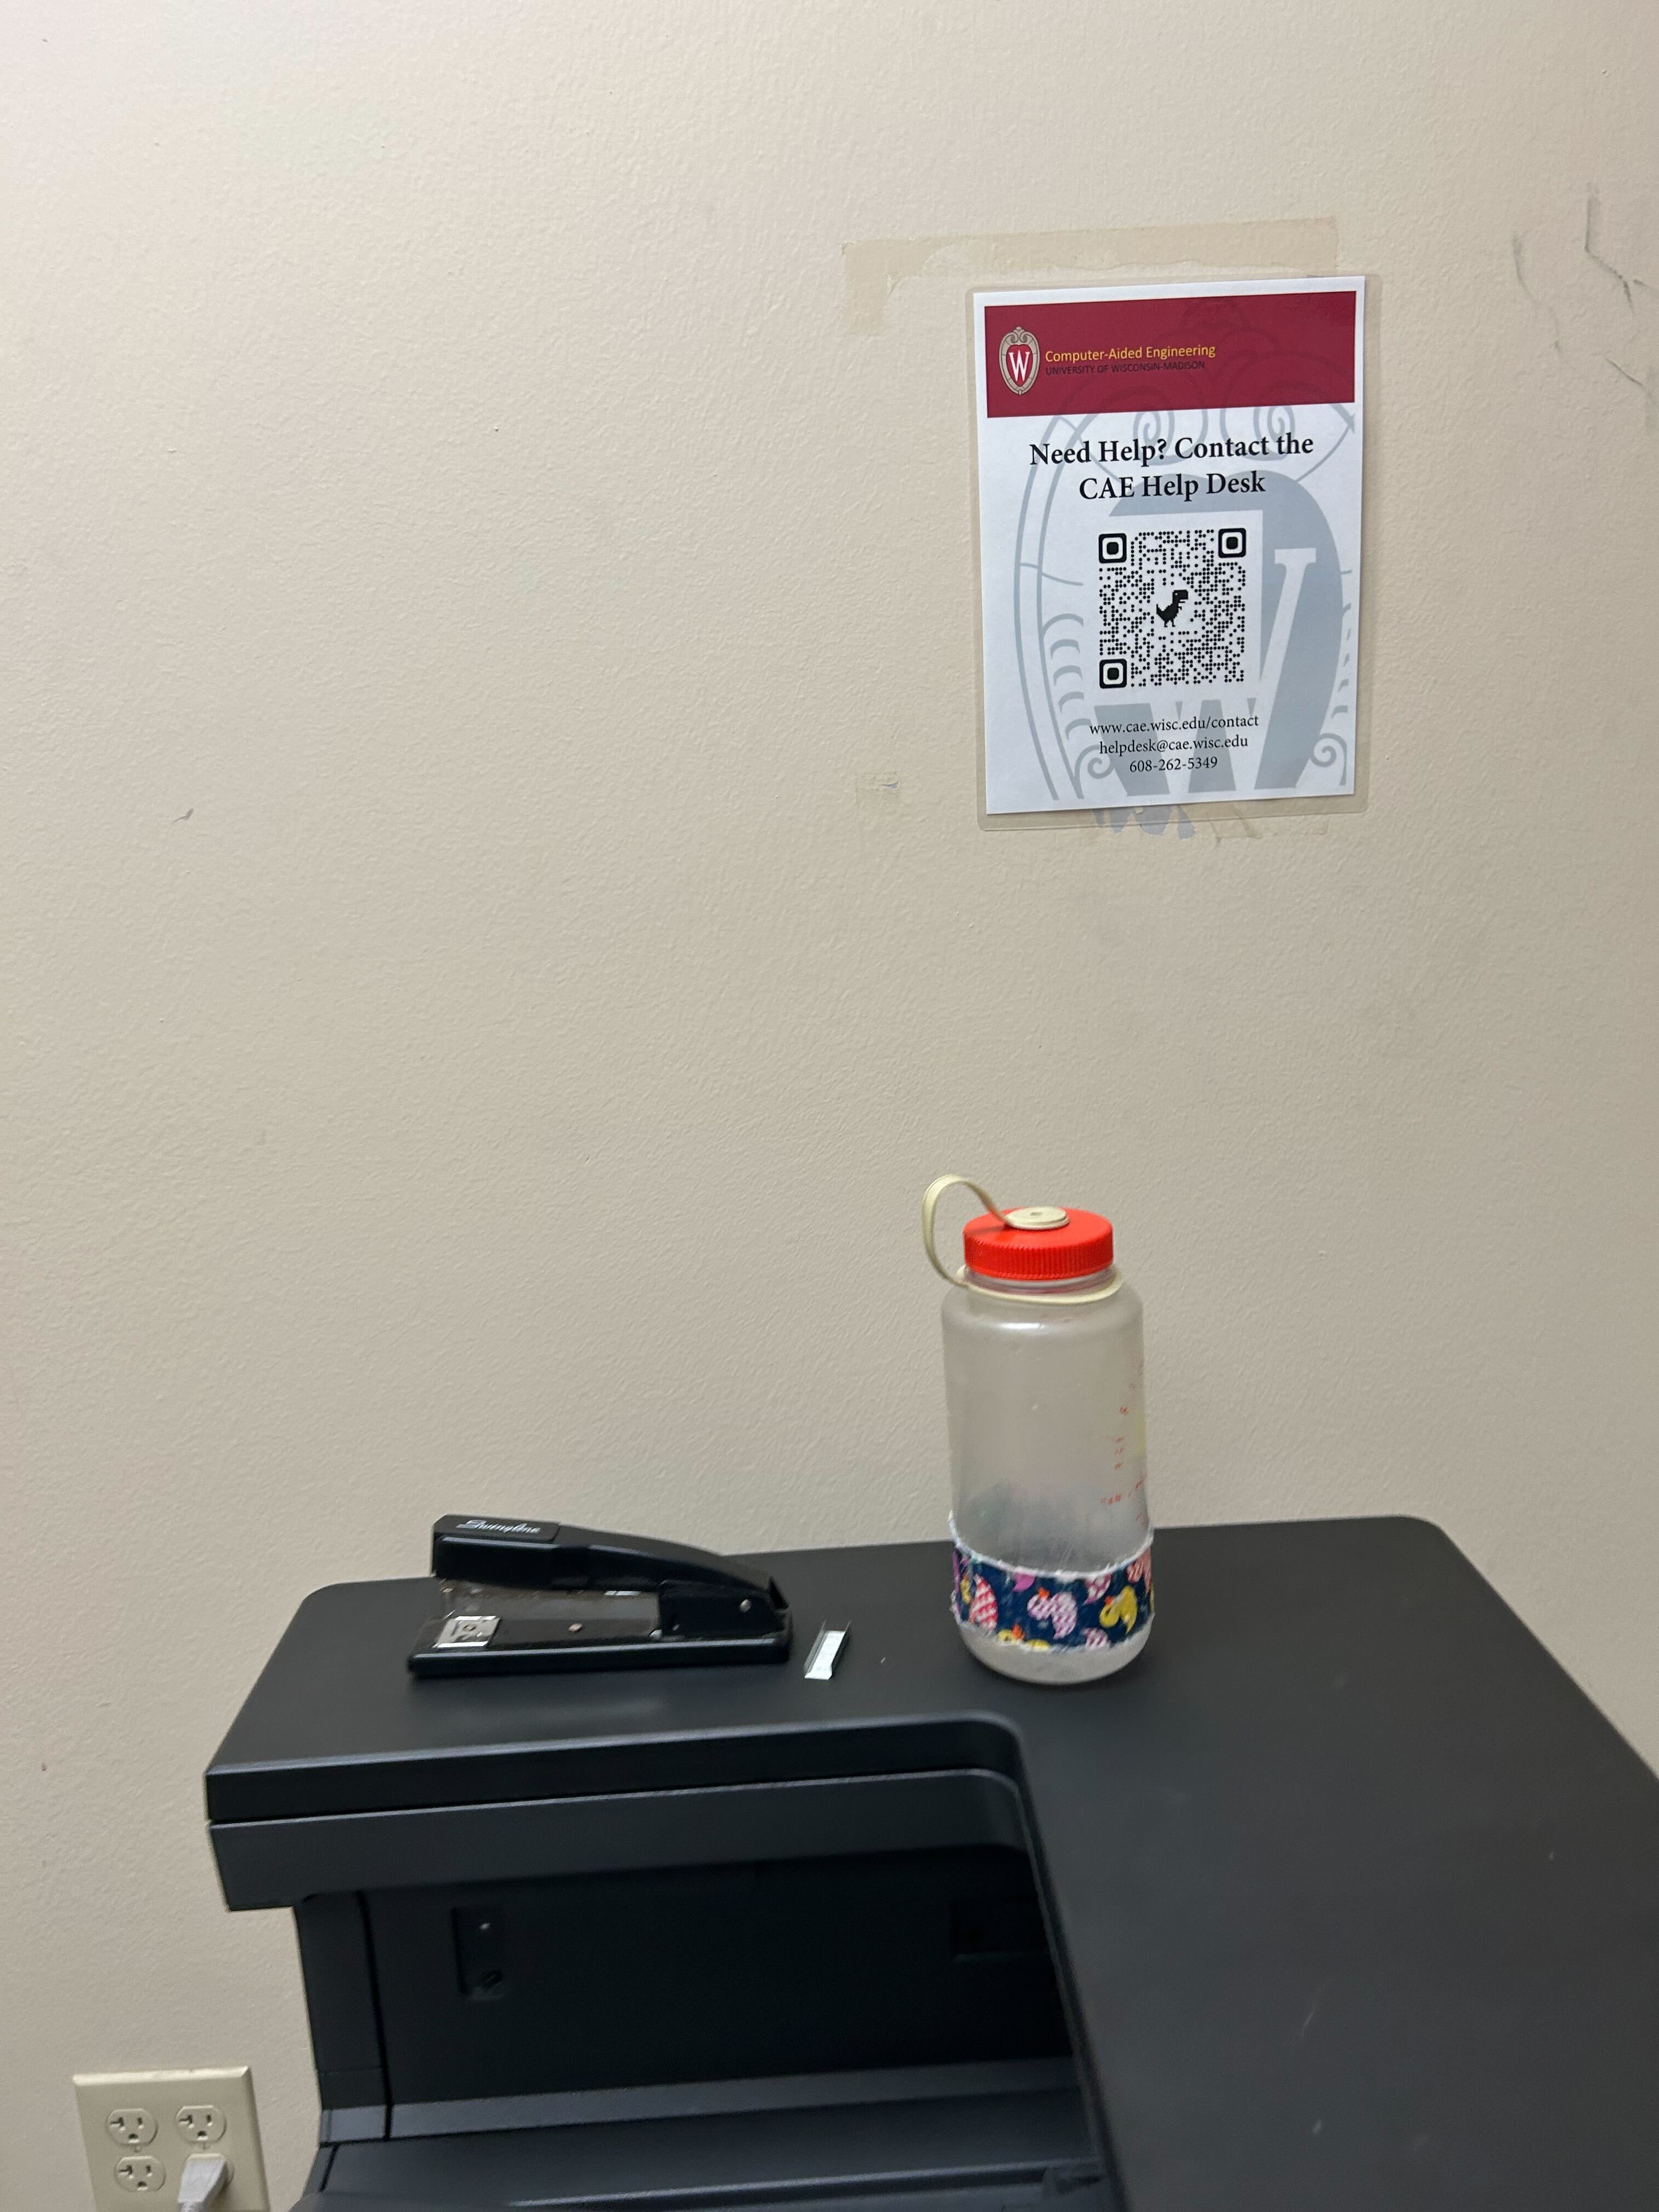bottle: (917, 1163, 1157, 1695)
